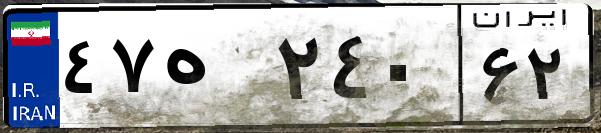0: (385, 28, 445, 110)
2: (270, 28, 330, 110), (525, 38, 570, 115)
4: (330, 28, 385, 110), (57, 26, 110, 100)
6: (475, 38, 525, 113)
7: (110, 28, 158, 98)
ه: (158, 20, 270, 120)
